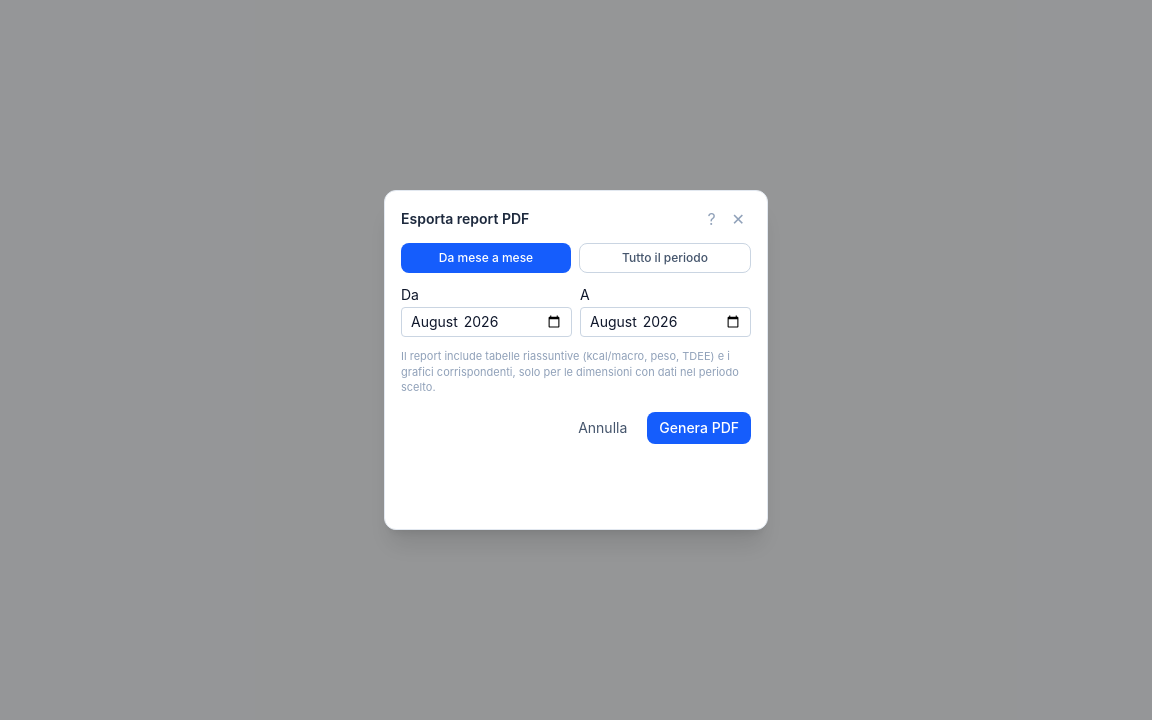
ReportPdfModal › ReportPdfModal_meseDaSuccessivoAMeseA_mostraErroreSenzaGenerare
Replace the text in the field labelled "Da" with "2024-06" at (486, 322), box [401,307,572,337]
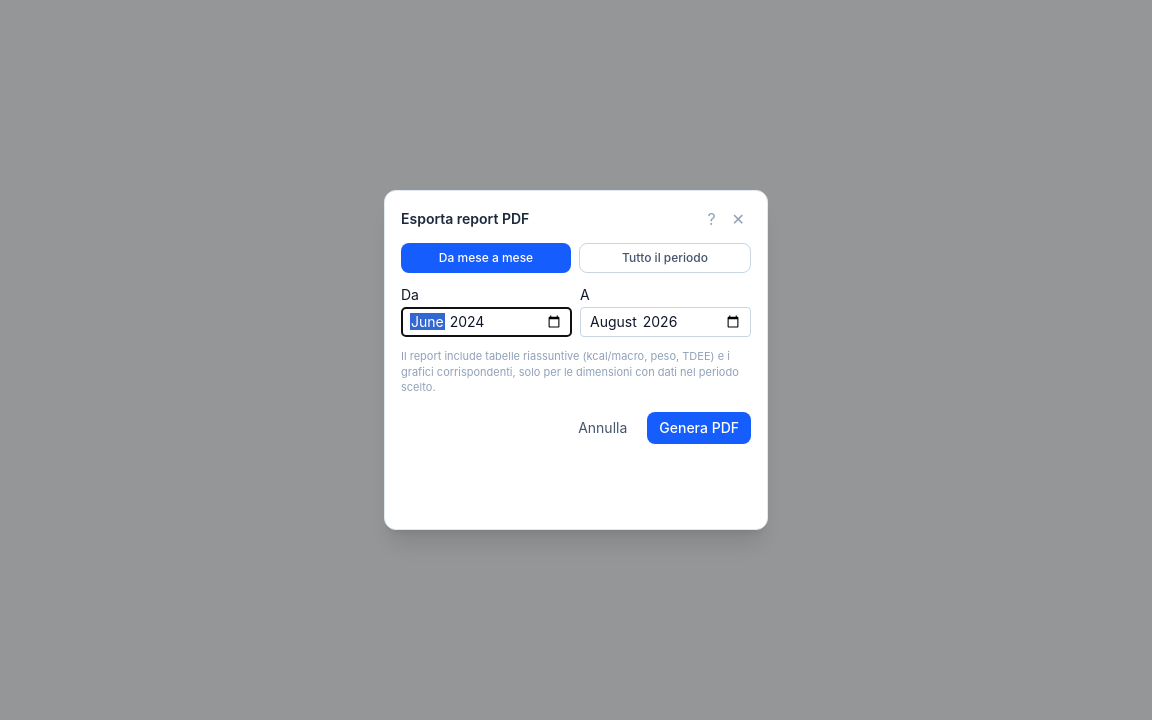
Replace the text in the field labelled "A" with "2024-03" at (666, 322), box [580,307,751,337]
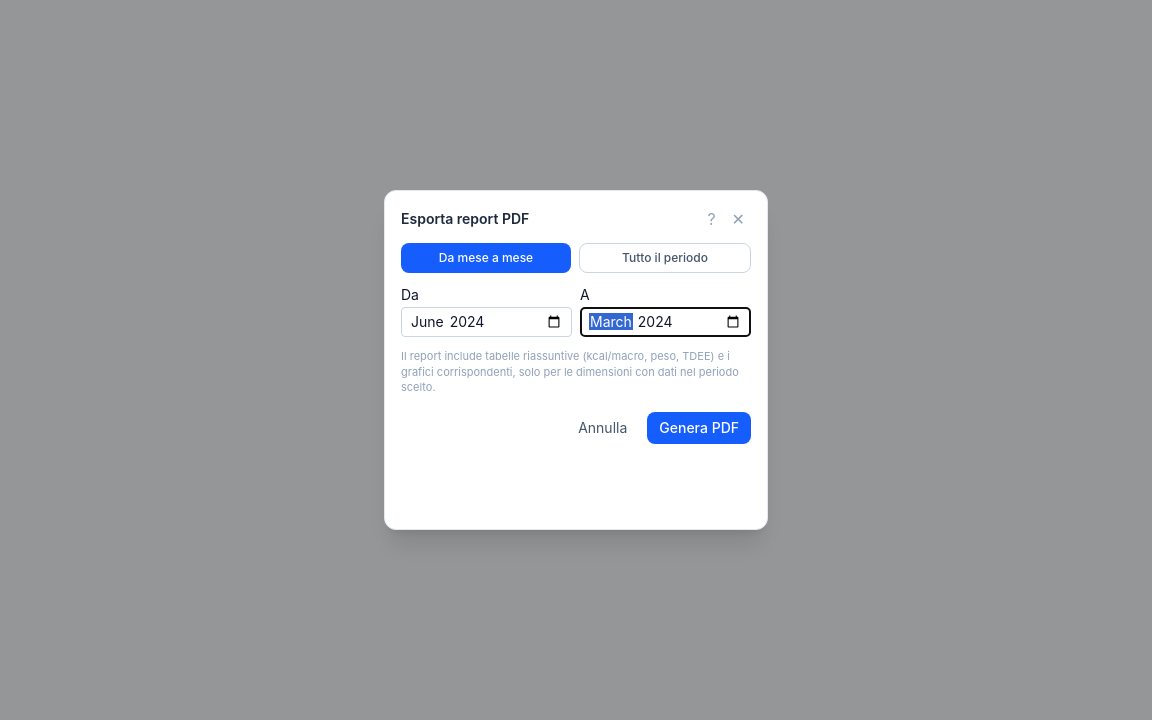
Submit the form labelled "Da", box [401,243,751,444]
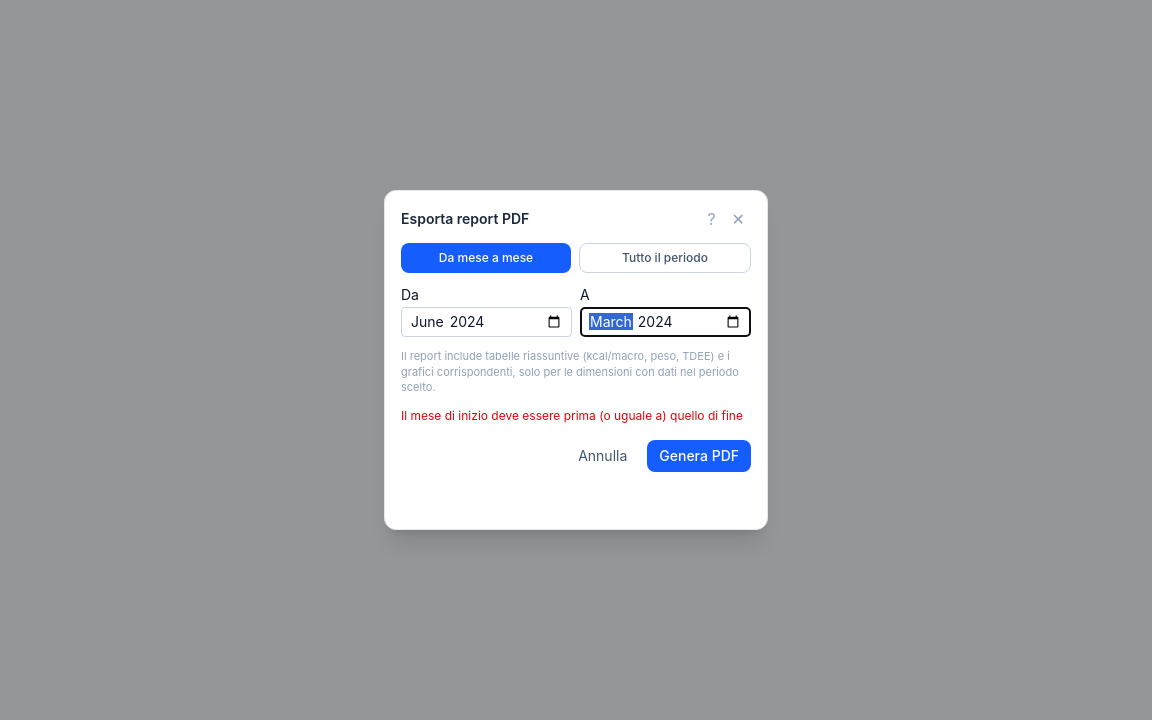
Expected: the text "deve essere prima" is shown, [401,408,743,423]
